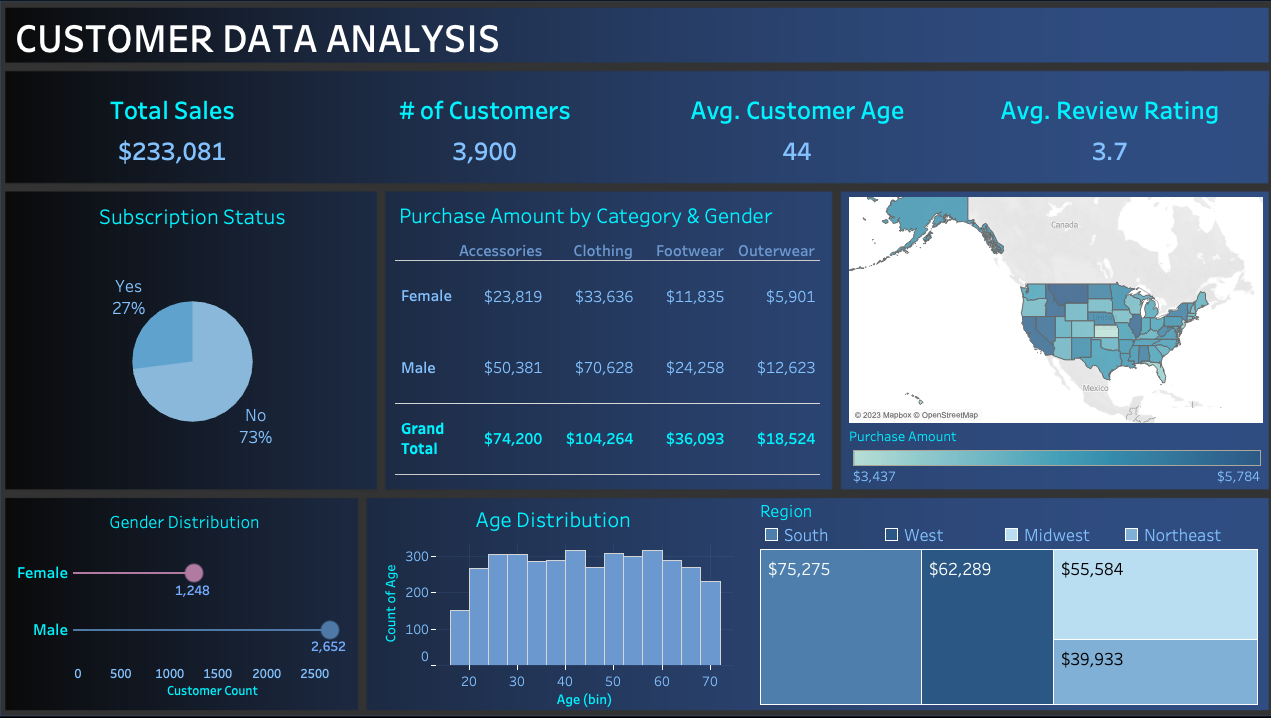

The page's visual inventory and layout, read from the dashboard file:
{"tool":"tableau","page":{"name":"Dashboard 1","canvas":[1259,808],"ordinal":0},"visuals":[{"type":"text","box":[4,10,902,37]},{"type":"worksheet","title":"(Dashboard) Key Metrics","mark":"Automatic","box":[7,74,1250,92]},{"type":"worksheet","title":"Text Table-Purchase Amount by Category (2)","mark":"Automatic","rows":["Gender"],"cols":["Category"],"box":[386,188,439,278]},{"type":"worksheet","title":"Geographic Sales Map","mark":"Automatic","box":[840,188,414,226]},{"type":"worksheet","title":"Loyalty and Subscription Status","mark":"Pie","box":[6,189,355,284]},{"type":"legend","title":"Geographic Sales Map","param":"[federated.100d3ah161117n10zdn811vb3b4d].[sum:Purchase Amount (USD):qk]","box":[840,418,416,57]},{"type":"worksheet","title":"Age Distribution","mark":"Automatic","rows":["Age"],"cols":["Age (bin)"],"box":[365,492,359,207]},{"type":"worksheet","title":"(Dashboard Version)Gender Distribution2","mark":"Automatic","rows":["Gender"],"cols":["finalcsv.csv_9D30728F45B545E29B859A9F3D019692","finalcsv.csv_9D30728F45B545E29B859A9F3D019692"],"box":[8,497,335,193]},{"type":"worksheet","title":"Purchase Amount by Region","mark":"Automatic","box":[747,536,505,164]}]}

Visuals, with their boxes on the page's 1259x808 design canvas (x1, y1, x2, y2). These are canvas units, not pixel positions in the 1271x718 screenshot, which may show the page scaled, cropped or inside an application window:
text: 4:10:906:47
"(Dashboard) Key Metrics" worksheet: 7:74:1257:166
"Text Table-Purchase Amount by Category (2)" worksheet: 386:188:825:466
"Geographic Sales Map" worksheet: 840:188:1254:414
"Loyalty and Subscription Status" worksheet (Pie marks): 6:189:361:473
"Geographic Sales Map" legend: 840:418:1256:475
"Age Distribution" worksheet: 365:492:724:699
"(Dashboard Version)Gender Distribution2" worksheet: 8:497:343:690
"Purchase Amount by Region" worksheet: 747:536:1252:700
